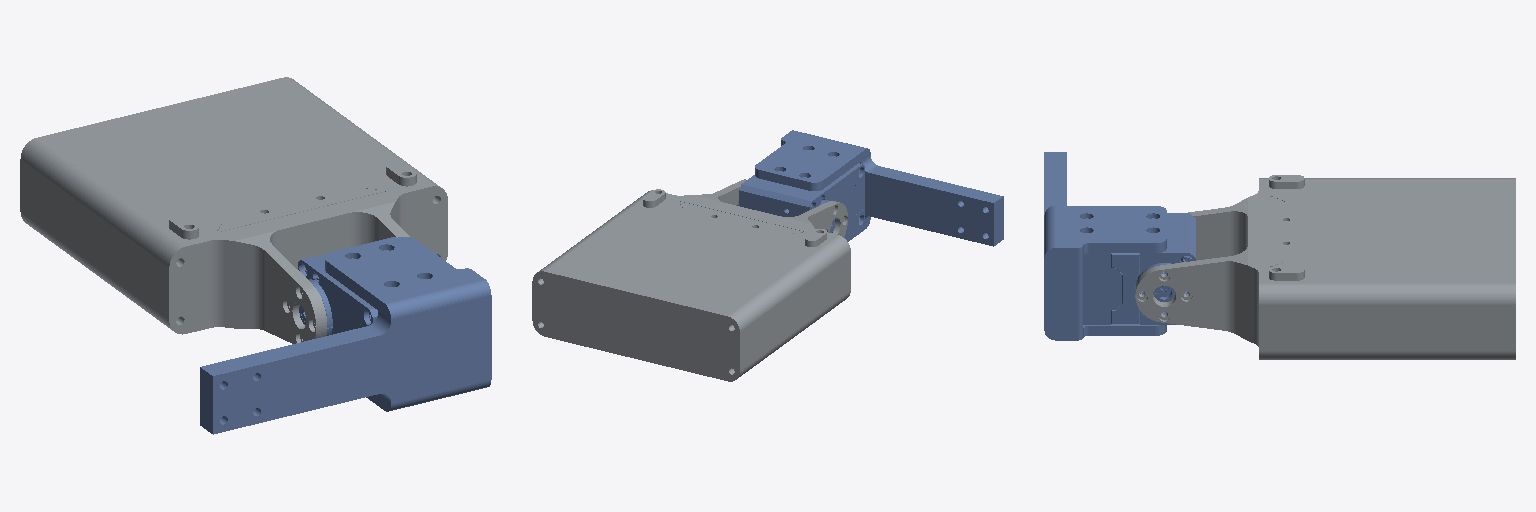
robot.urdf — sysID_XC430:
<?xml version="1.0" ?>
<robot name="sysID_XC430">
  <link name="xc430">
    <visual>
      <origin xyz="0 0 0" rpy="0 -0 0"/>
      <geometry>
        <mesh filename="package:///meshes/xc430_visual.stl"/>
      </geometry>
      <material name="xc430_material">
        <color rgba="0.44786462886842598463 0.53733448957467955243 0.69800988116095863401 1.0"/>
      </material>
    </visual>
    <collision>
      <origin xyz="0 0 0" rpy="0 -0 0"/>
      <geometry>
        <mesh filename="package:///meshes/xc430_collision.stl"/>
      </geometry>
    </collision>
    <inertial>
      <origin xyz="0.0709224439626469777 0.016712412139443660886 0.005543011911192575851" rpy="0 0 0"/>
      <mass value="0.086449999993020193445"/>
      <inertia ixx="2.7835937895289603625e-05" ixy="-5.7442278246997916427e-06" ixz="-3.9581376465514811914e-08" iyy="2.9061697096171224734e-05" iyz="-5.0973493978072746798e-08" izz="4.324213417779756573e-05"/>
    </inertial>
  </link>

  <link name="arm_430">
    <visual>
      <origin xyz="0 0 0" rpy="0 -0 0"/>
      <geometry>
        <mesh filename="package:///meshes/arm_430_visual.stl"/>
      </geometry>
      <material name="arm_430_material">
        <color rgba="0.63059283987567626983 0.65298952457695413898 0.67418901807298270423 1.0"/>
      </material>
    </visual>
    <collision>
      <origin xyz="0 0 0" rpy="0 -0 0"/>
      <geometry>
        <mesh filename="package:///meshes/arm_430_collision.stl"/>
      </geometry>
    </collision>
    <inertial>
      <origin xyz="-0.077790387031996310885 1.3637865612734206139e-05 -0.018999999999999978711" rpy="0 0 0"/>
      <mass value="0.25549999999999994937"/>
      <inertia ixx="0.00024426144376378929003" ixy="-9.401585883161292486e-08" ixz="5.3560758525686012555e-20" iyy="0.00041073874164067591128" iyz="1.4659063207649052332e-16" izz="0.00022084196523238823419"/>
    </inertial>
  </link>

  <joint name="joint_0" type="revolute">
    <origin xyz="0.054999999999999681088 0.032699857927858962114 0.0055693959459660142761" rpy="1.57079632679489678 -5.5511151231258061214e-17 -1.5707963267948972241"/>
    <parent link="xc430"/>
    <child link="arm_430"/>
    <axis xyz="0 0 1"/>
    <limit effort="1" velocity="20" lower="-1.570796326794896558" upper="1.570796326794896558"/>
    <joint_properties friction="0.0"/>
  </joint>


</robot>

--- Render facts (derived) ---
The picture shows the robot from 3 angles, left to right: view 1: azimuth 30°, elevation 25°; view 2: azimuth 150°, elevation 25°; view 3: azimuth 270°, elevation 25°; orthographic projection.
Model sysID_XC430 with 2 links and 1 joints (1 revolute), rooted at xc430, posed all joints at 0.
Visible links, largest first — view 1: arm_430, xc430; view 2: arm_430, xc430; view 3: arm_430, xc430.
Link boxes in pixels (left/top/right/bottom): arm_430: left=20, top=77, right=447, bottom=343; xc430: left=200, top=237, right=491, bottom=434; arm_430: left=532, top=179, right=850, bottom=381; xc430: left=737, top=130, right=1003, bottom=246; arm_430: left=1135, top=175, right=1515, bottom=359; xc430: left=1044, top=152, right=1195, bottom=340.
Bounding box of the posed robot: 0.129 × 0.1697 × 0.0368 m (x, y, z).
2 mesh visuals loaded from 2 distinct referenced files (2 binary STL).
